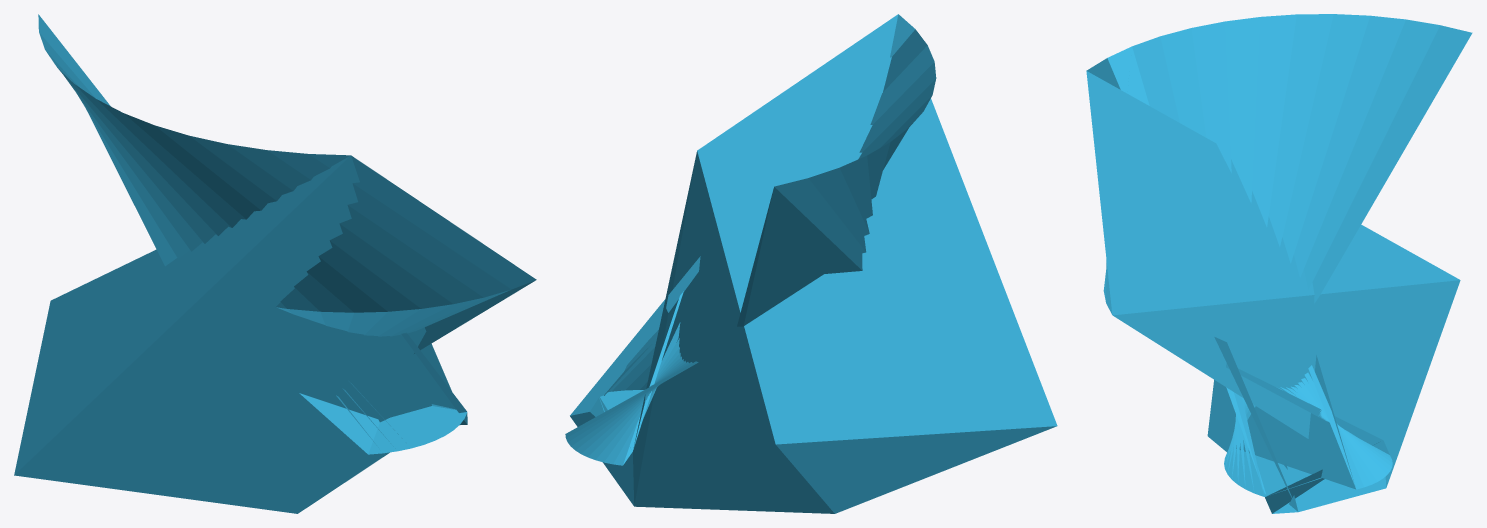
Rendered from immersion_eoe_abstract_bird_animation.glb.
3 renders of one model, left to right at view 1: azimuth 30°, elevation 25°; view 2: azimuth 150°, elevation 25°; view 3: azimuth 270°, elevation 25°, orthographic. The views are drawn at different scales.
Parts seen in each view (by area): view 1: Cube; view 2: Cube; view 3: Cube.
Boxes of the visible parts, left/top/right/bottom form: Cube: left=14, top=14, right=536, bottom=513; Cube: left=565, top=14, right=1057, bottom=513; Cube: left=1086, top=14, right=1472, bottom=513.
Bounding box in the file's own units: 5.38 × 4.55 × 4.3.
